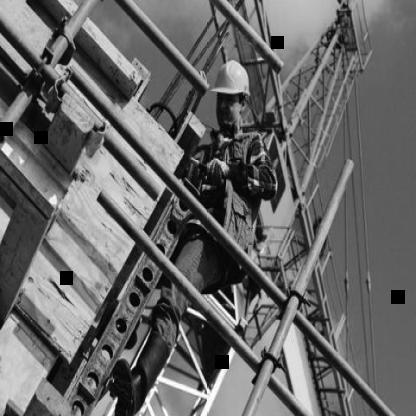helmet: (204, 61, 254, 130)
